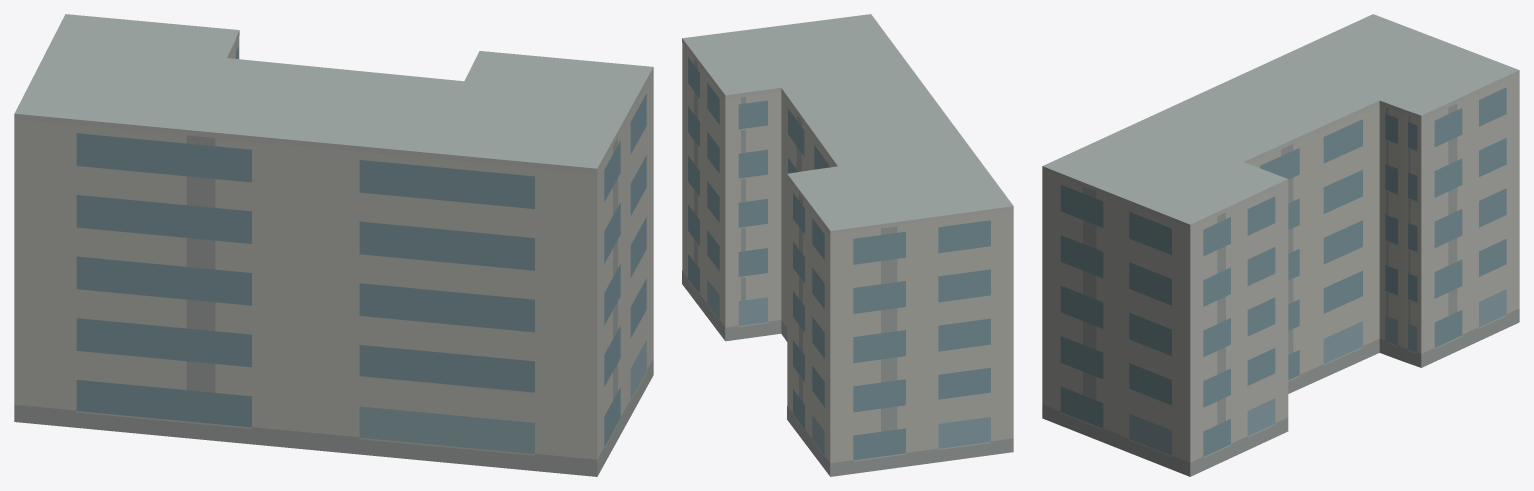
Rendered from survey-upis-33002807.glb.
3 views of the same model, side by side, from view 1: azimuth 30°, elevation 25°; view 2: azimuth 150°, elevation 25°; view 3: azimuth 270°, elevation 25° (orthographic). The views are drawn at different scales.
Parts seen in each view (by area): view 1: survey-upis-33002807.tmp; view 2: survey-upis-33002807.tmp; view 3: survey-upis-33002807.tmp.
Boxes of the visible parts, x1,y1,x2,y2 form: survey-upis-33002807.tmp: (14, 14, 653, 476); survey-upis-33002807.tmp: (682, 14, 1013, 476); survey-upis-33002807.tmp: (1042, 14, 1519, 476).
Size of the model in its own units: 24.9 by 13.9 by 23.83.
